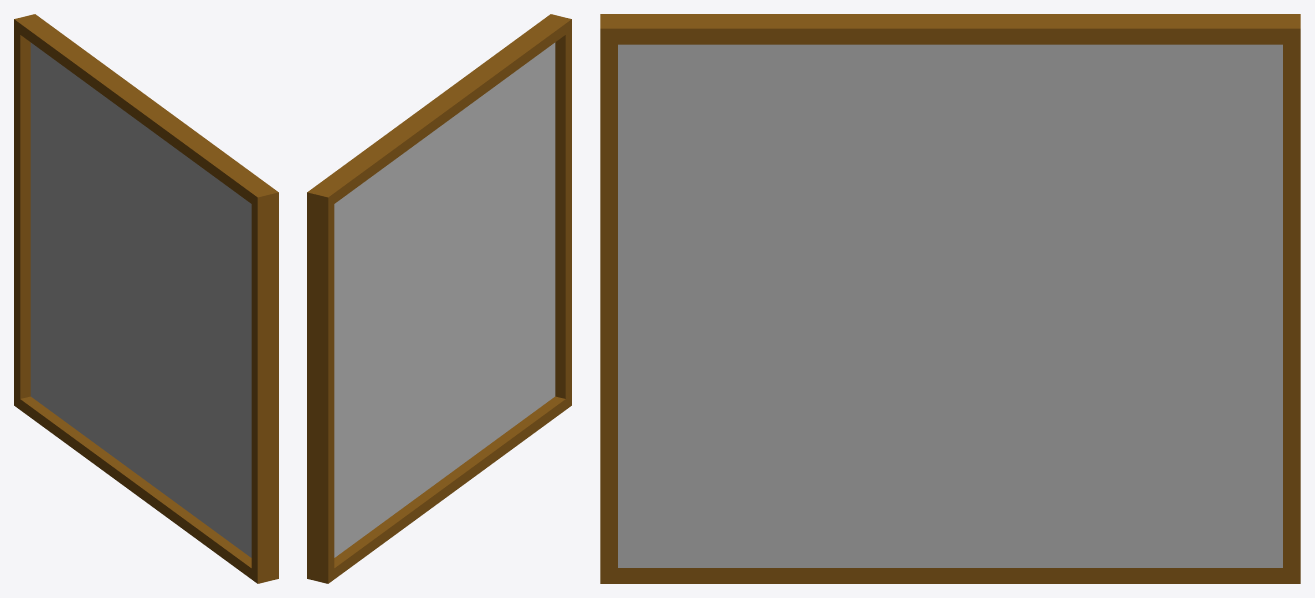
File: FrameForPainting-0-Frame.obj
3 renders of one model, left to right at view 1: azimuth 30°, elevation 25°; view 2: azimuth 150°, elevation 25°; view 3: azimuth 270°, elevation 25°, orthographic. The views are drawn at different scales.
Visible parts, largest first — view 1: Frame; view 2: Frame; view 3: Frame.
Part boxes in pixels (left/top/right/bottom): Frame: left=14, top=14, right=278, bottom=583; Frame: left=307, top=14, right=571, bottom=583; Frame: left=600, top=14, right=1300, bottom=583.
Bounding box in the file's own units: 0.2 × 3.5 × 4.
1 material, 1 textured.
